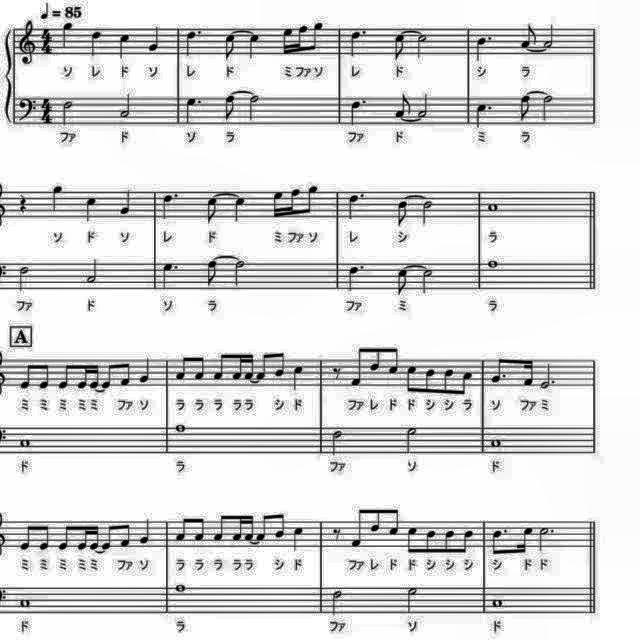Bass-clef: (15, 94, 37, 122)
Eighth-note: (348, 503, 366, 552), (347, 344, 365, 388), (488, 354, 509, 386), (391, 90, 413, 120), (220, 31, 240, 63), (518, 22, 540, 50), (517, 90, 535, 124), (456, 368, 476, 398), (391, 32, 409, 64), (56, 520, 74, 552), (173, 352, 191, 384), (489, 524, 507, 556), (386, 340, 402, 376), (203, 194, 221, 226), (101, 358, 119, 390), (305, 183, 321, 217), (100, 520, 116, 554), (394, 266, 411, 298), (393, 199, 411, 229), (366, 341, 382, 374), (220, 92, 236, 125), (386, 506, 402, 538), (58, 358, 74, 390), (34, 524, 50, 556), (34, 358, 50, 390), (19, 520, 35, 552), (272, 346, 288, 378), (310, 20, 326, 52), (18, 360, 34, 392), (256, 512, 272, 544), (204, 258, 220, 290), (116, 358, 132, 389), (254, 351, 270, 382), (442, 526, 458, 556), (422, 366, 438, 396), (176, 512, 192, 542), (116, 519, 132, 549), (368, 505, 384, 535), (212, 510, 226, 544), (212, 348, 226, 382), (422, 526, 438, 554), (460, 527, 476, 555), (274, 509, 288, 541), (442, 367, 456, 398), (406, 362, 420, 393), (192, 514, 206, 544), (195, 352, 209, 382), (406, 524, 420, 554)
Eighth-rest: (328, 362, 344, 382), (330, 524, 346, 544)
Full-note: (485, 200, 503, 216), (484, 258, 502, 272), (17, 596, 35, 610), (490, 595, 506, 609), (172, 582, 188, 596), (17, 438, 35, 450), (488, 438, 504, 450), (172, 422, 188, 434)
Half-dot: (534, 523, 556, 553), (537, 361, 557, 392)
Half-note: (232, 258, 250, 290), (327, 586, 345, 618), (83, 256, 101, 288), (14, 264, 32, 294), (60, 96, 76, 128), (406, 582, 422, 614), (538, 92, 554, 124), (405, 424, 421, 456), (245, 93, 262, 123), (414, 31, 431, 61), (116, 92, 134, 120), (414, 92, 432, 120), (418, 200, 436, 228), (328, 429, 344, 459), (420, 268, 436, 296), (540, 22, 556, 50)
Quarter-dot: (156, 190, 180, 224), (344, 262, 368, 294), (344, 190, 368, 222), (346, 96, 369, 128), (346, 26, 369, 58), (472, 100, 496, 130), (472, 33, 496, 63), (160, 260, 182, 292), (184, 92, 206, 124), (182, 26, 202, 58)
Quarter-note: (231, 195, 251, 225), (244, 31, 264, 61), (116, 186, 134, 218), (47, 182, 65, 214), (136, 353, 154, 385), (89, 27, 107, 58), (83, 194, 101, 224), (146, 22, 162, 54), (138, 516, 154, 548), (60, 21, 76, 51), (116, 31, 132, 61), (290, 363, 306, 393), (290, 524, 306, 552)
Quarter-rest: (17, 190, 31, 213)
Sixteenth-note: (514, 526, 534, 558), (270, 187, 286, 221), (521, 354, 537, 388), (280, 24, 296, 58), (286, 186, 302, 218), (74, 361, 90, 392), (231, 350, 245, 382), (243, 514, 257, 546), (232, 512, 246, 544), (89, 522, 103, 554), (75, 522, 89, 552), (242, 353, 256, 383), (90, 360, 102, 392), (296, 22, 308, 54)
Treble-clef: (17, 18, 39, 68)
